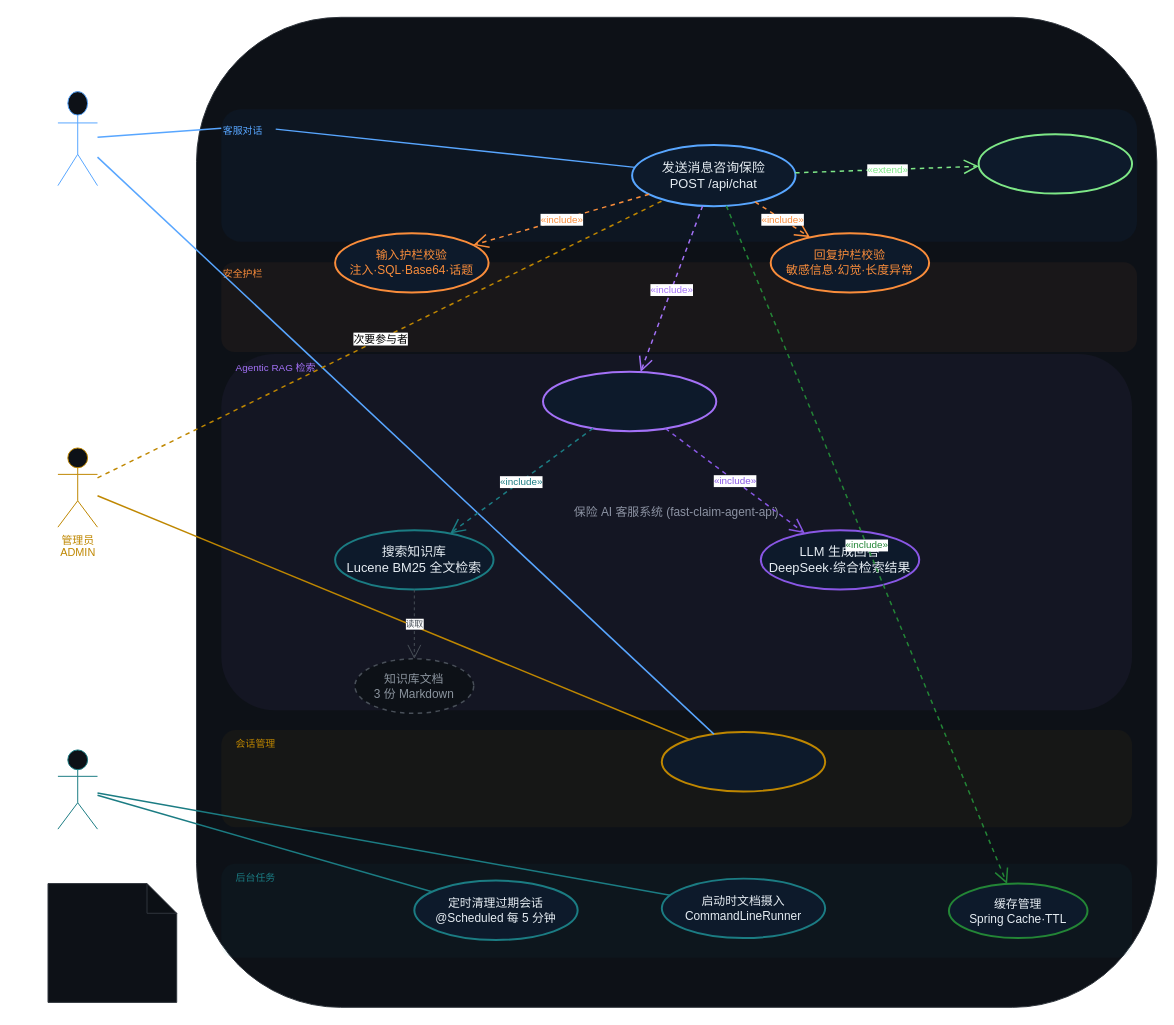
The diagram is 1174 pixels wide and 1025 high, and some of its shapes have lost their labels. Here are the shapes that lost their labels. From the top down, the centre of each, then its label:
At (77,138): "用户 USER / UNDERWRITER / CLAIMS / ADMIN".
At (1055,163): "多轮对话 sessionId 保持上下文".
At (629,401): "Agentic RAG 检索 LLM 自主发起·多轮迭代".
At (743,761): "清除会话 DELETE /api/chat/sessions/{id}".
At (77,789): "系统定时器 @Scheduled".
At (112,942): "图例 ──── 主要参与者 - - - - 次要参与者 - - - -«include» - - - -«extend» - - - -数据依赖".
